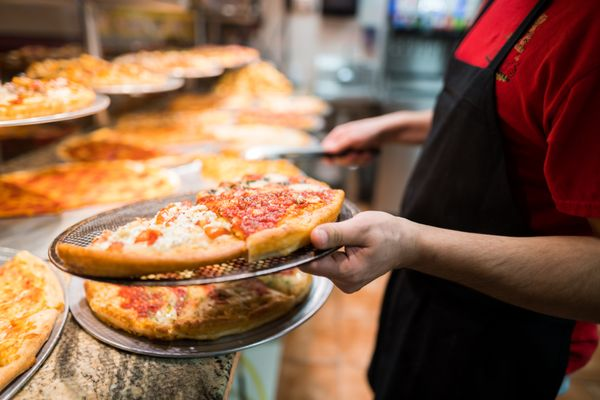sandwich: (55, 160, 346, 277), (66, 64, 336, 162), (0, 152, 306, 219), (81, 266, 312, 340), (0, 154, 210, 219), (0, 248, 66, 393), (0, 73, 96, 120)
